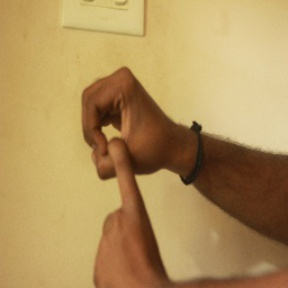Q: (76, 66, 183, 288)
